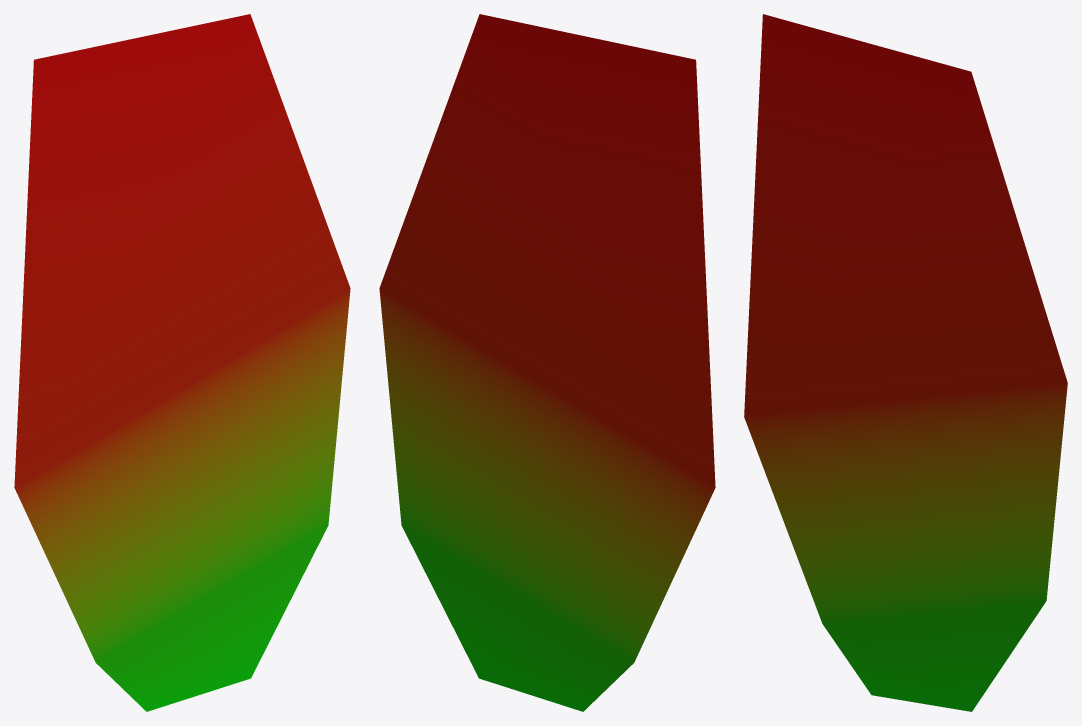
The model's file is Dragon Tree_LOD3_Var4_siumT.fbx.
3 views of the same model, side by side, from view 1: azimuth 30°, elevation 25°; view 2: azimuth 150°, elevation 25°; view 3: azimuth 330°, elevation 25° (orthographic). The views are drawn at different scales.
Parts seen in each view (by area): view 1: _2bfb_Var4_LOD3; view 2: _2bfb_Var4_LOD3; view 3: _2bfb_Var4_LOD3.
Part boxes in pixels (bbox=[...]): _2bfb_Var4_LOD3: bbox=[14, 14, 350, 711]; _2bfb_Var4_LOD3: bbox=[379, 14, 715, 711]; _2bfb_Var4_LOD3: bbox=[744, 14, 1067, 711].
Size of the model in its own units: 45.45 by 87.84 by 1.59e-05.
